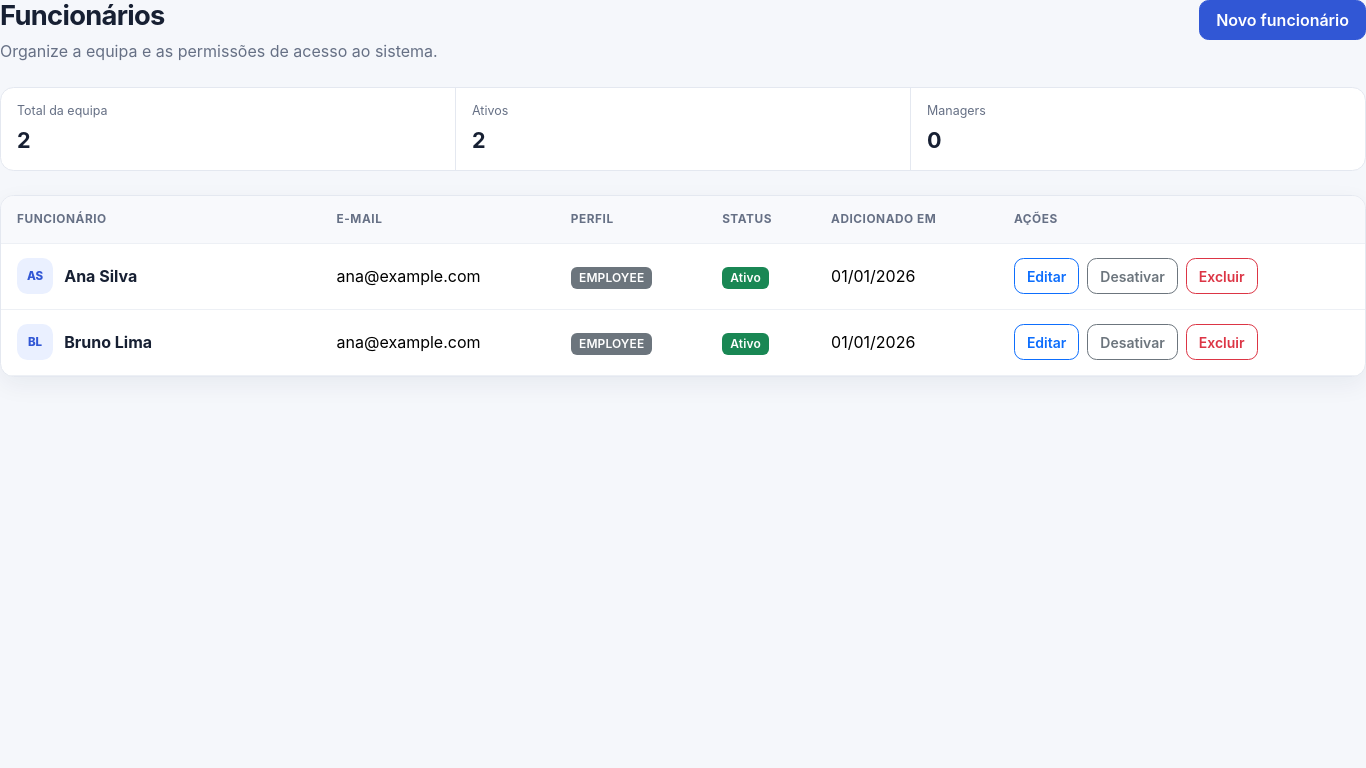
Scenario: EmployeesPage › deletes an employee after confirmation
Expected: the table is shown, [1,196,1365,376]
Step 1. Click the button "Excluir" in the row of "Ana Silva" → (1222, 276), box [1186,258,1258,294]
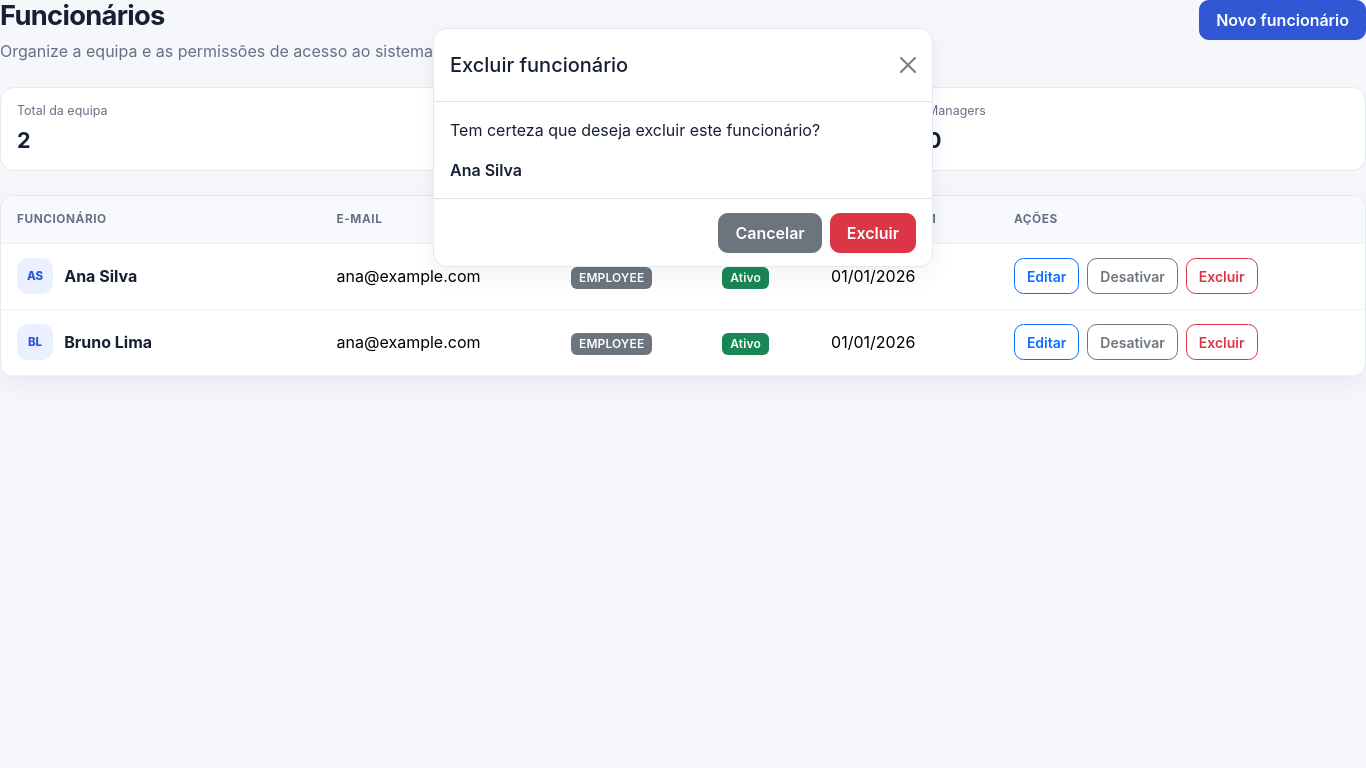
Result: the text "Tem certeza que deseja excluir este funcionário?" is shown at [450,120,820,140]
Step 2. Click the button "Excluir" → (873, 233), box [830,213,916,253]
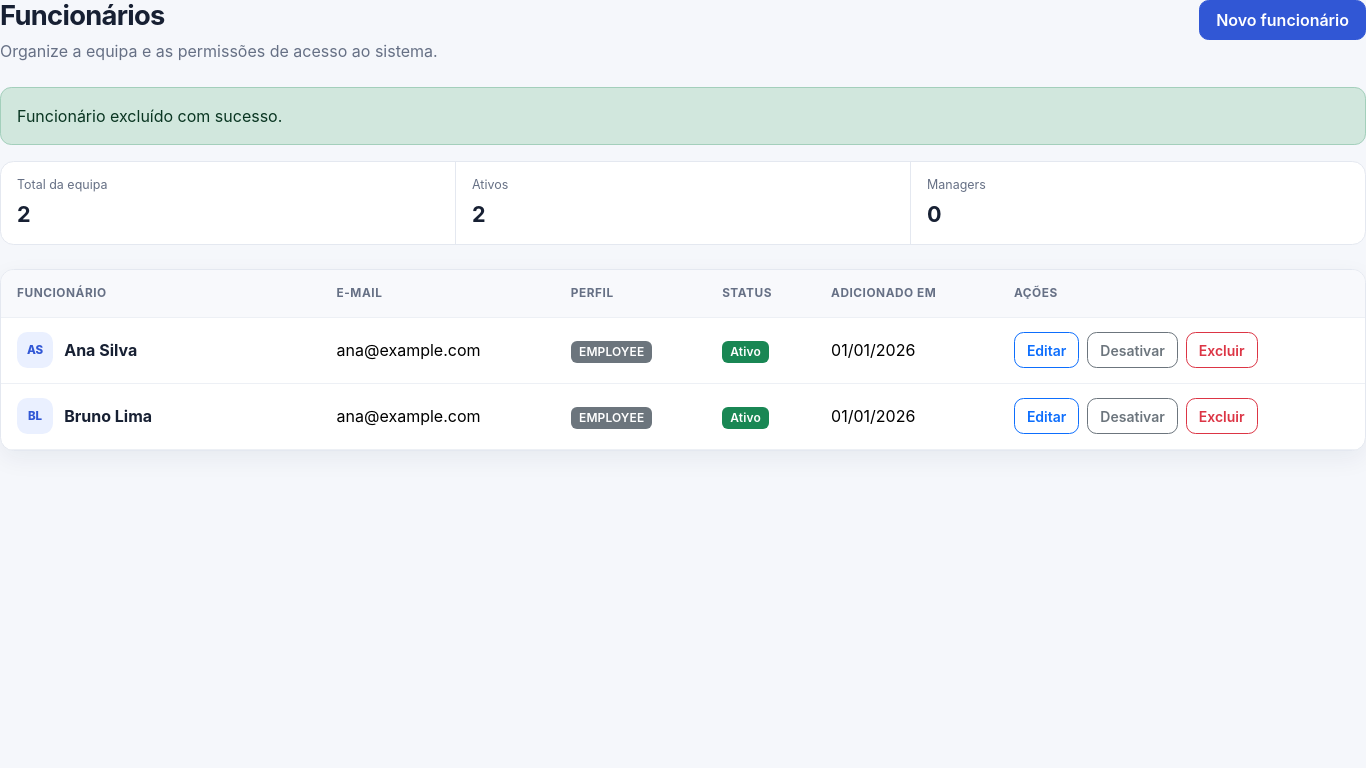
Result: the text "Funcionário excluído com sucesso." is shown at [0,87,1365,145]
Result: the dialog is gone
